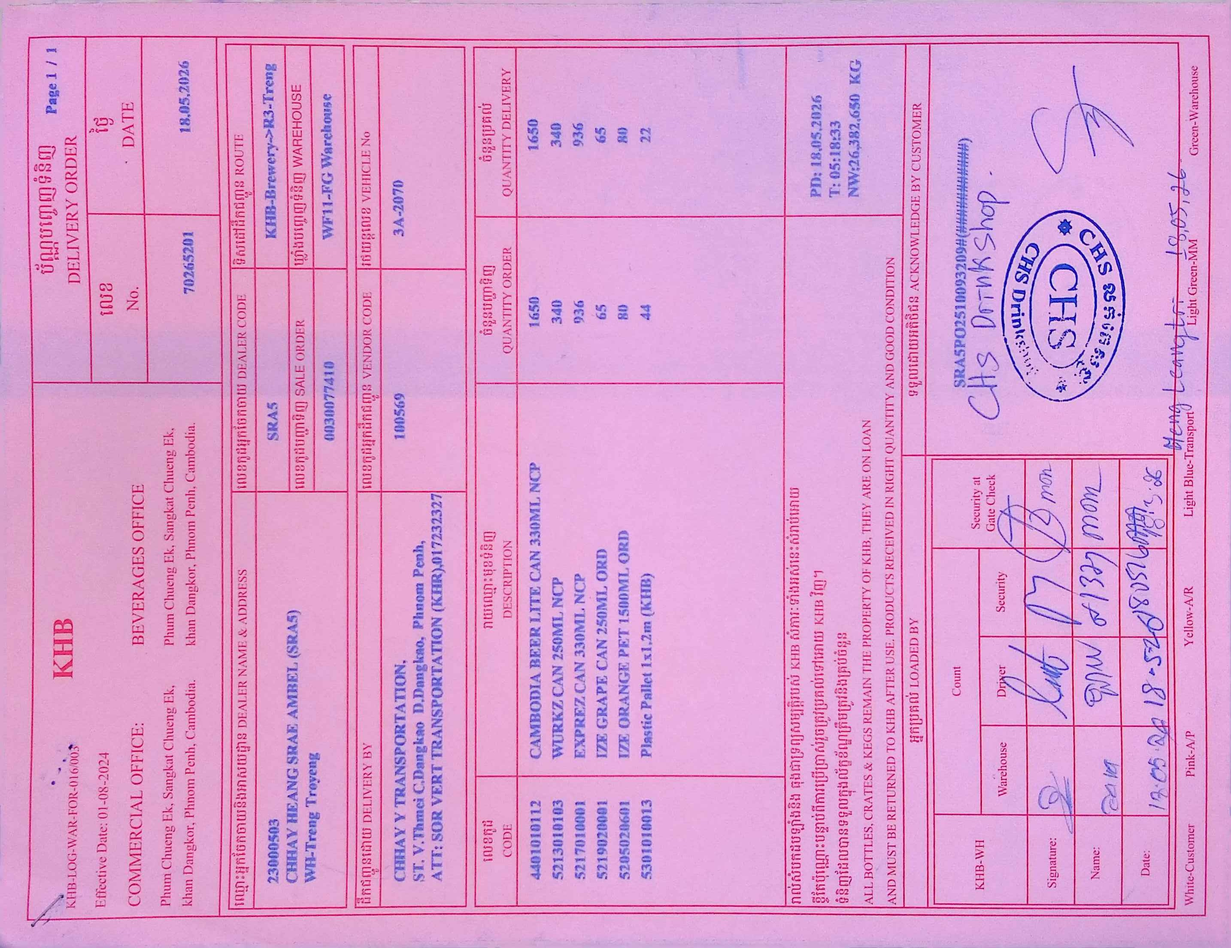Dealer Code: (225, 266, 285, 492)
Invoice Date: (142, 36, 219, 211)
Invoice No: (142, 211, 219, 384)
Sale Order: (285, 266, 348, 492)
Vehicle Code: (352, 36, 470, 266)
Vender Code: (352, 266, 470, 492)
